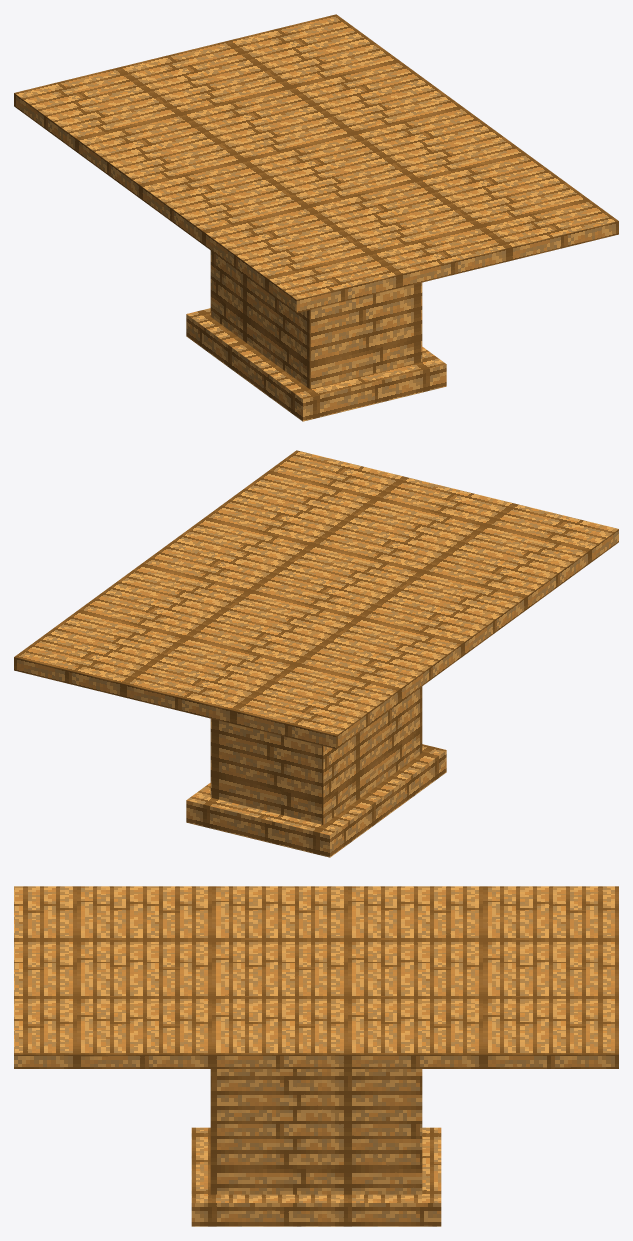
The model's file is BLOCKYGON_TABLE(BIG).fbx.
3 renders of one model, top to bottom at view 1: azimuth 30°, elevation 25°; view 2: azimuth 150°, elevation 25°; view 3: azimuth 270°, elevation 25°, orthographic. The views are drawn at different scales.
Parts seen in each view (by area): view 1: BLOCKYGON_TABLE_BIG_; view 2: BLOCKYGON_TABLE_BIG_; view 3: BLOCKYGON_TABLE_BIG_.
Boxes of the visible parts, x1,y1,x2,y2 form: BLOCKYGON_TABLE_BIG_: (14, 14, 618, 421); BLOCKYGON_TABLE_BIG_: (14, 450, 618, 857); BLOCKYGON_TABLE_BIG_: (14, 886, 618, 1226).
Size of the model in its own units: 294 by 178 by 446.
1 material, 1 textured.
